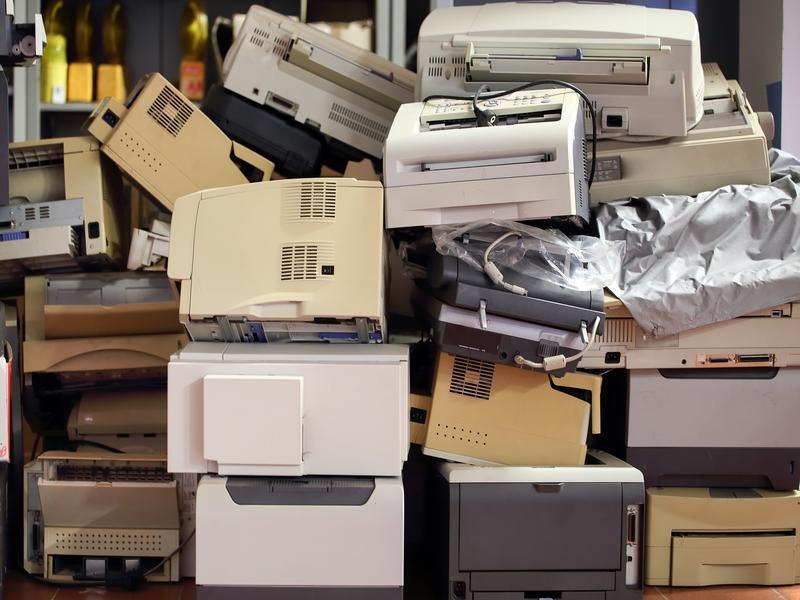printer: (153, 334, 428, 481), (418, 2, 708, 139), (204, 5, 427, 160), (381, 88, 592, 231), (440, 453, 645, 600), (183, 475, 420, 600), (15, 446, 196, 589), (616, 370, 800, 491), (646, 482, 800, 591)
